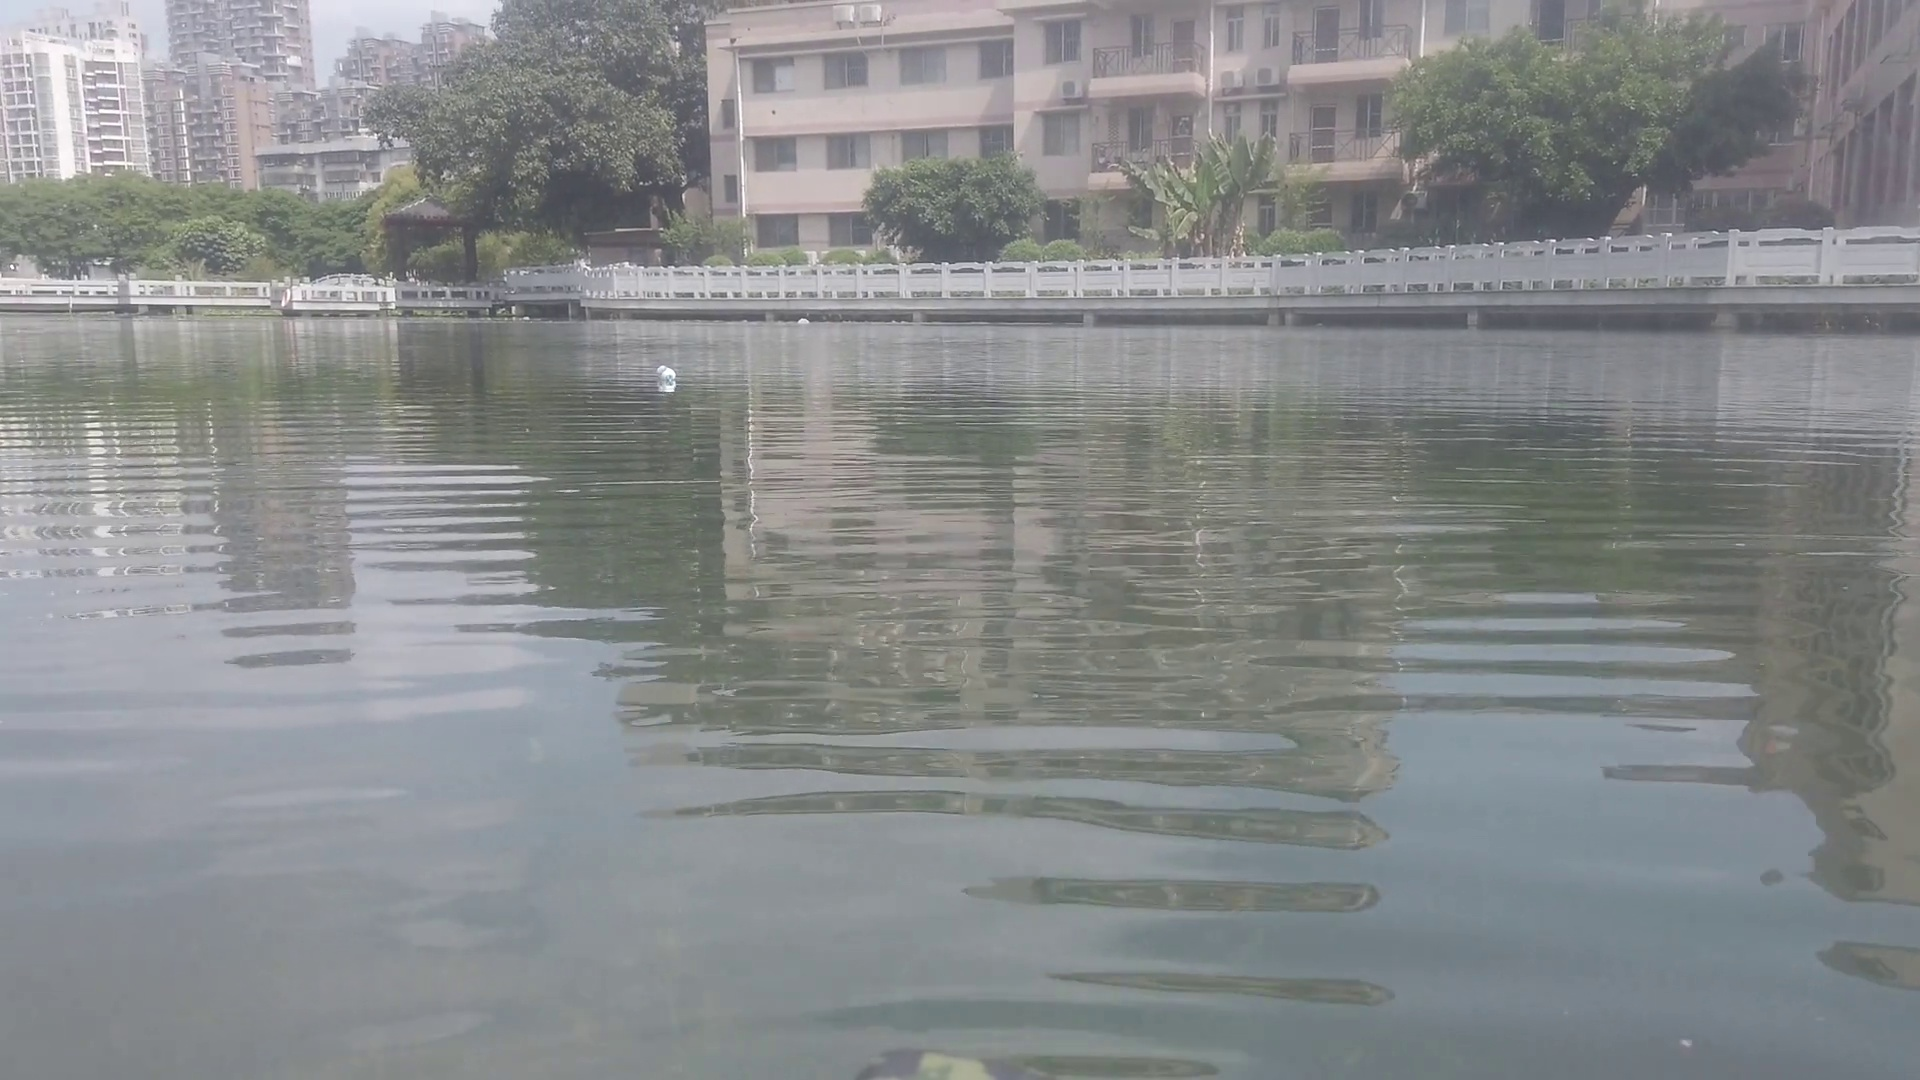bottle: (655, 364, 676, 385)
plastic: (796, 315, 814, 324)
